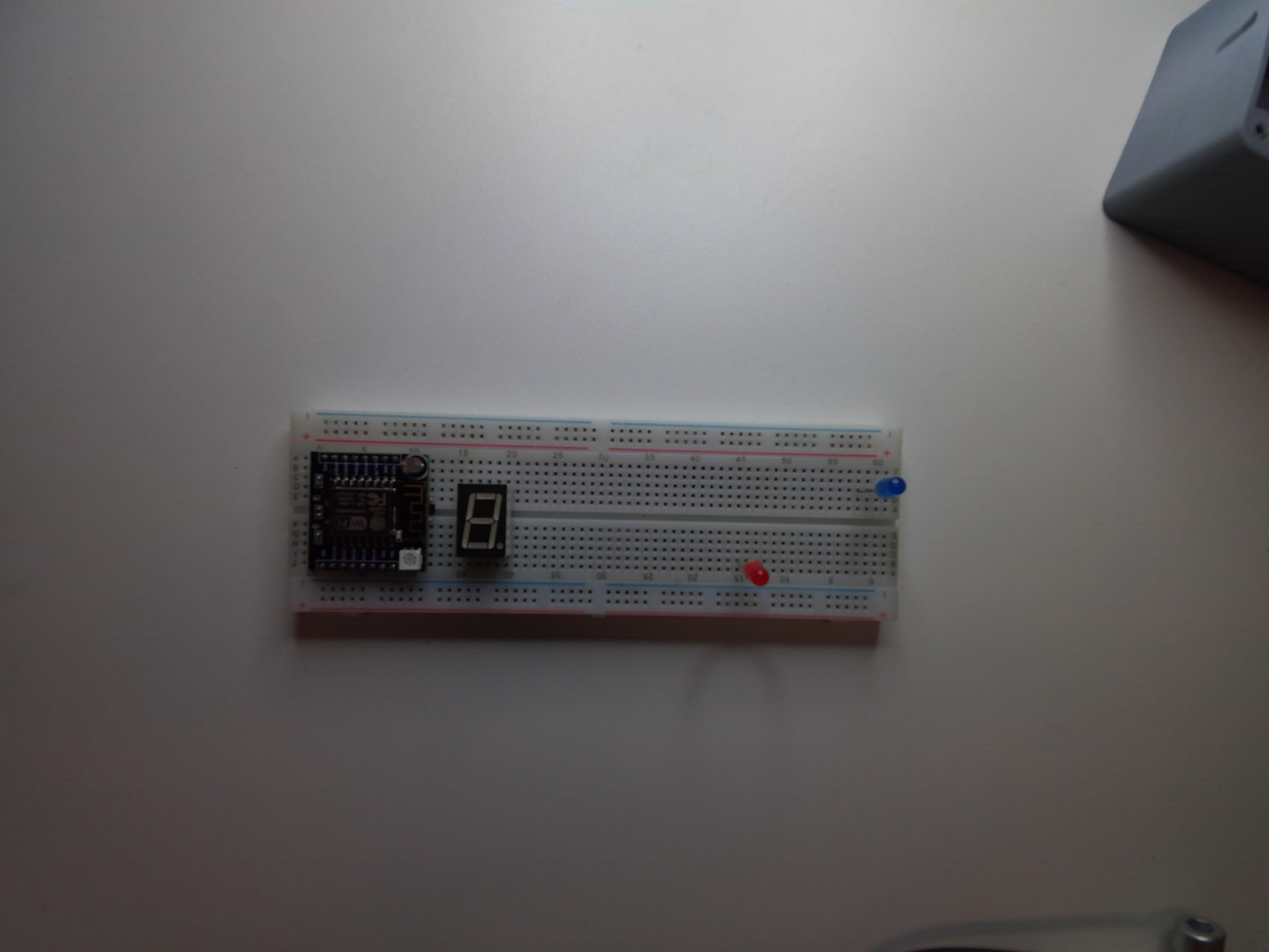base: (285, 409, 909, 637)
blue-led: (871, 470, 908, 502)
capacitor: (745, 561, 769, 585)
digit-board: (455, 480, 510, 577)
esp: (305, 450, 431, 588)
red-led: (745, 561, 769, 586)
